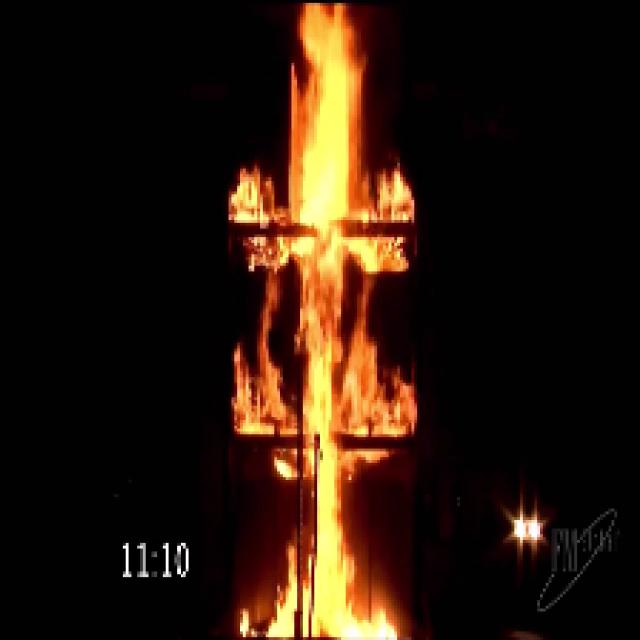fire: (250, 5, 399, 640)
